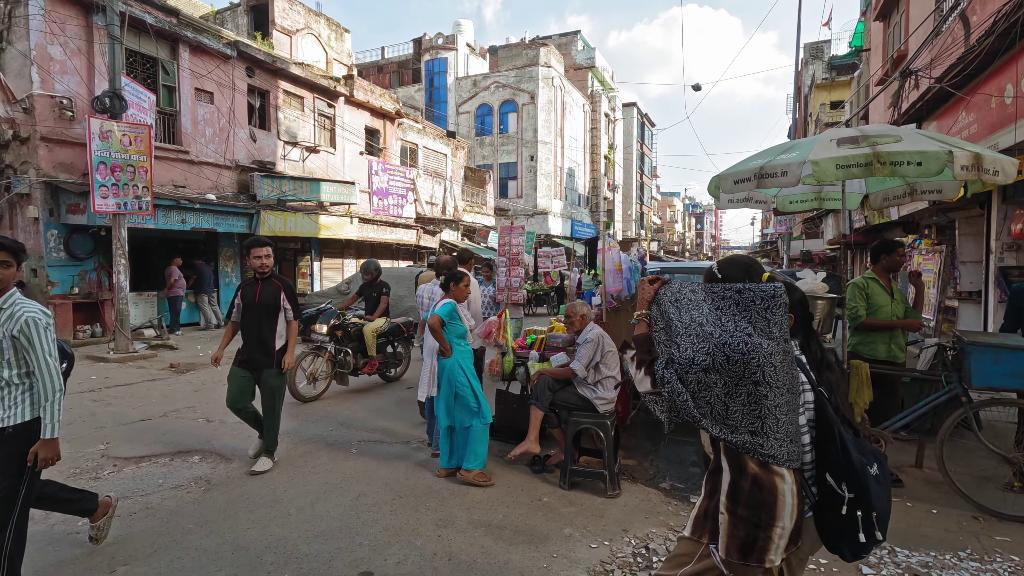garbage: (795, 268, 832, 295)
